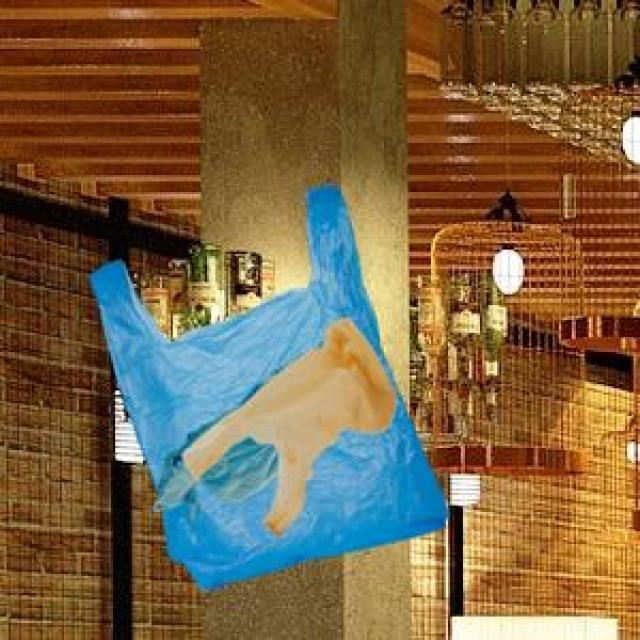Bolsa-de-nilon: (88, 185, 447, 594)
